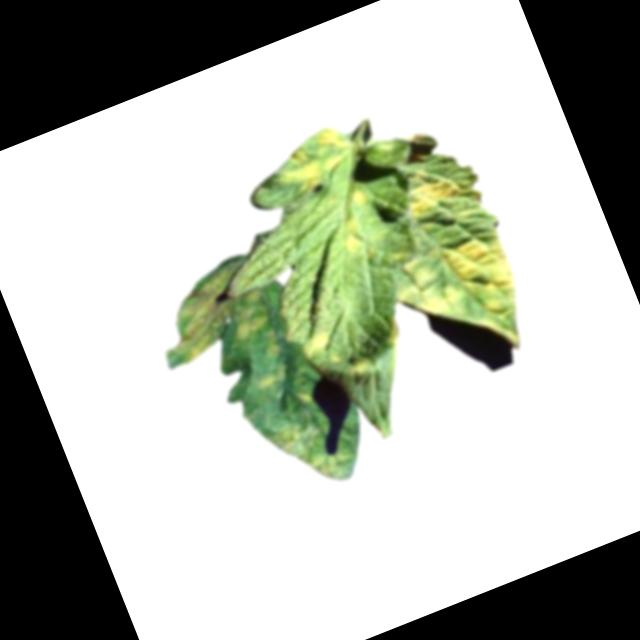Leaf_Mold: (384, 222, 541, 373), (153, 251, 277, 368), (265, 120, 361, 201), (265, 409, 352, 495), (401, 171, 467, 225), (334, 213, 373, 262), (298, 326, 342, 359), (342, 345, 380, 382), (342, 177, 378, 216), (253, 362, 291, 393), (297, 386, 318, 407)
